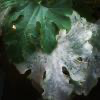Squash Powdery mildew leaf: (12, 12, 98, 99)
